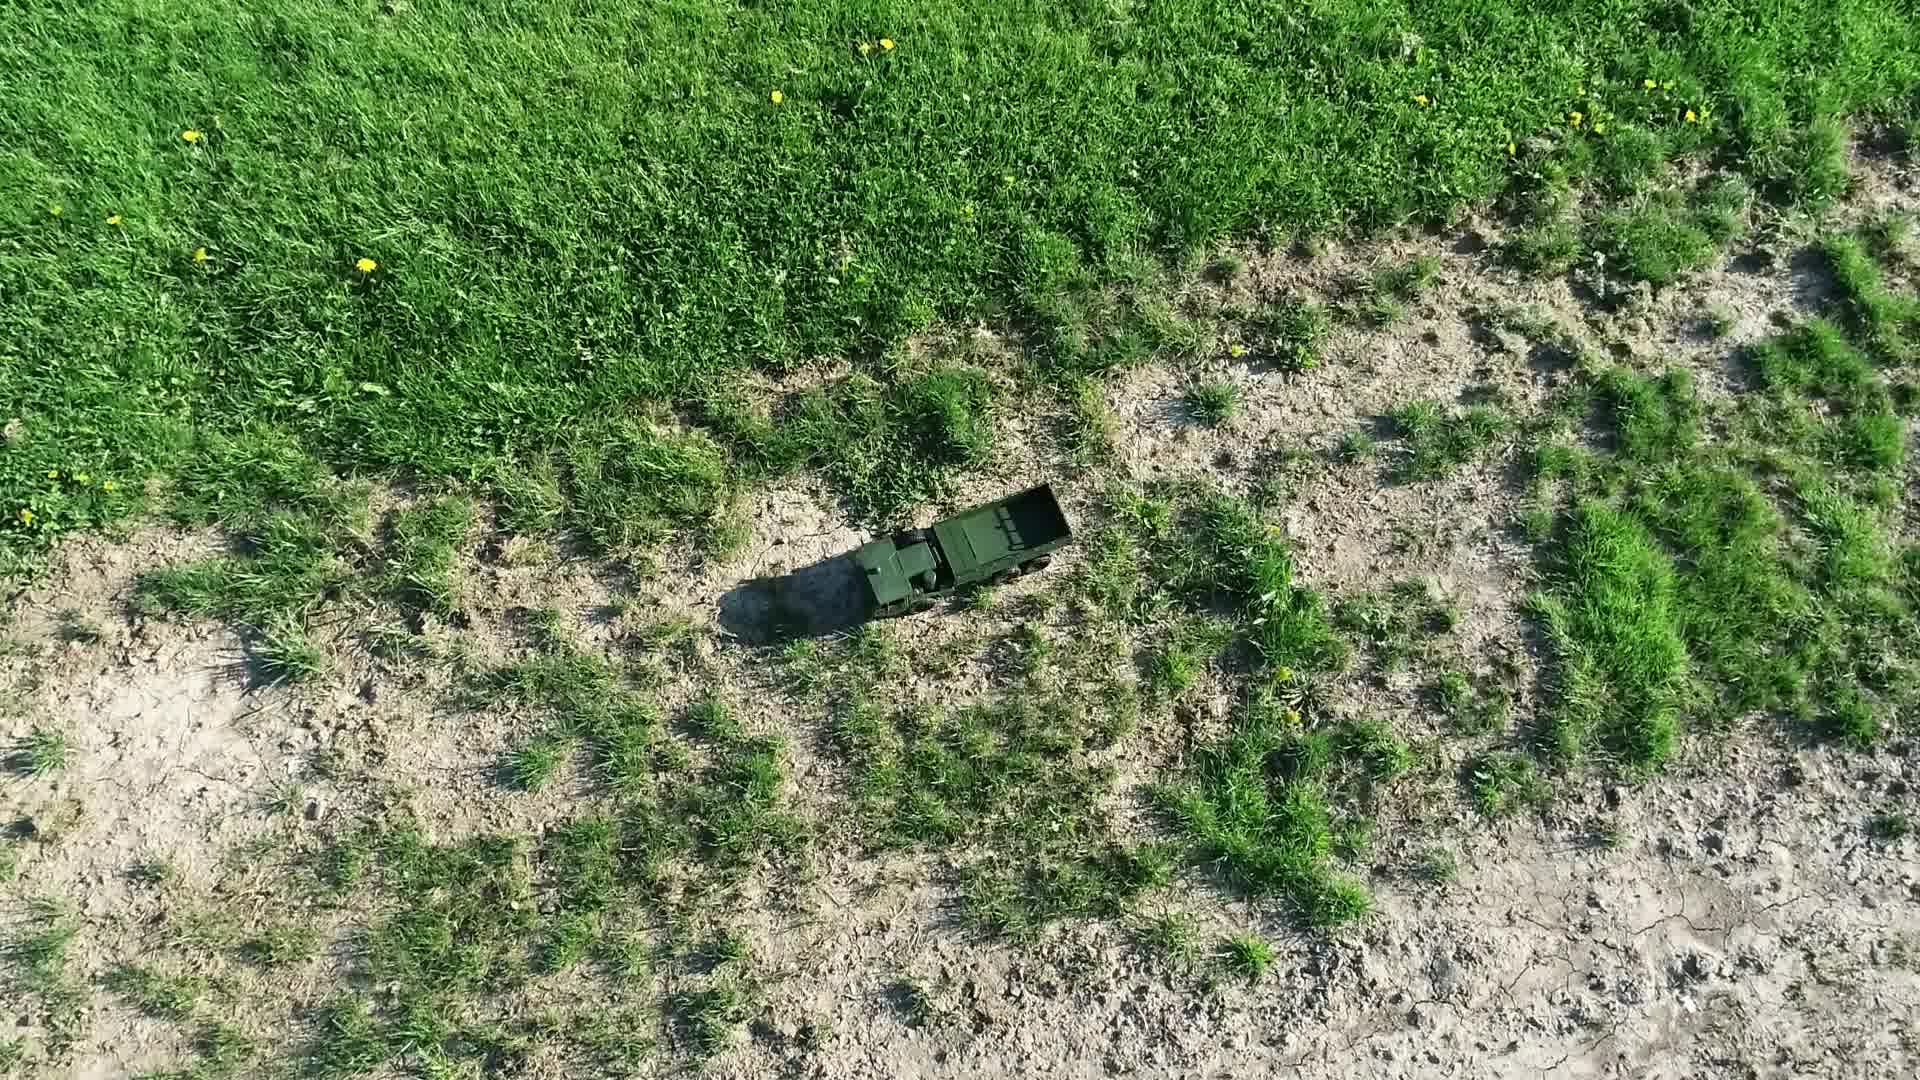transporter9: (845, 485, 1075, 622)
